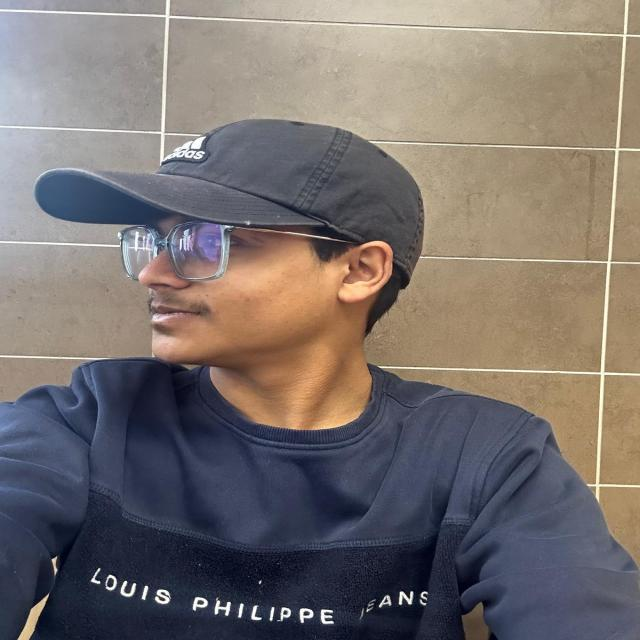cap: (24, 109, 480, 290)
